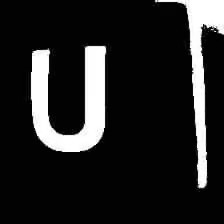LTR_U: (19, 37, 113, 156)
